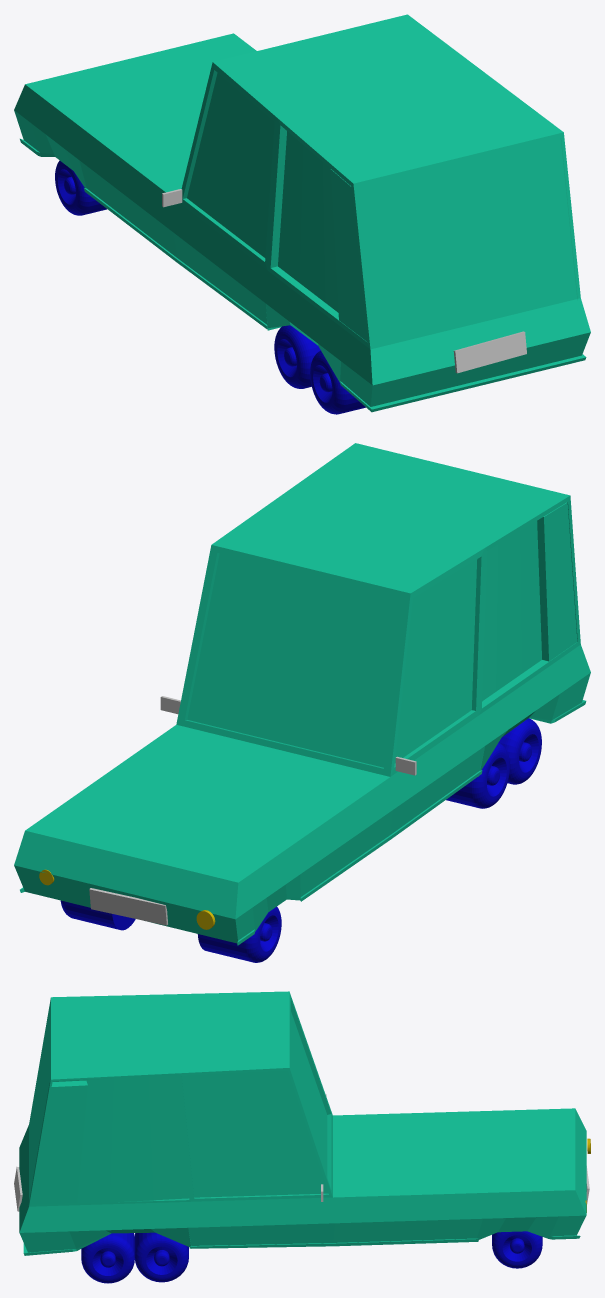
File: car.obj
The picture shows the model from 3 angles, top to bottom: view 1: azimuth 30°, elevation 25°; view 2: azimuth 150°, elevation 25°; view 3: azimuth 270°, elevation 25°; orthographic projection. The views are drawn at different scales.
Parts seen in each view (by area): view 1: Cube_Cube.002, Cylinder.001_Cylinder.005, Cube.003_Cube.004, Cylinder.002_Cylinder.006, Cylinder_Cylinder.004; view 2: Cube_Cube.002, Cylinder_Cylinder.004, Cylinder.001_Cylinder.005, Cylinder.002_Cylinder.006, Cube.004_Cube.005; view 3: Cube_Cube.002, Cylinder.001_Cylinder.005, Cylinder.002_Cylinder.006, Cylinder_Cylinder.004.
Part boxes in pixels (bbox=[...]): Cube_Cube.002: bbox=[14, 14, 590, 412]; Cylinder.001_Cylinder.005: bbox=[274, 325, 320, 388]; Cube.003_Cube.004: bbox=[453, 331, 526, 373]; Cylinder.002_Cylinder.006: bbox=[310, 350, 365, 414]; Cylinder_Cylinder.004: bbox=[55, 160, 106, 215]; Cube_Cube.002: bbox=[14, 443, 590, 945]; Cylinder_Cylinder.004: bbox=[60, 900, 281, 962]; Cylinder.001_Cylinder.005: bbox=[446, 742, 509, 808]; Cylinder.002_Cylinder.006: bbox=[499, 718, 541, 784]; Cube.004_Cube.005: bbox=[89, 888, 167, 925]; Cube_Cube.002: bbox=[19, 991, 586, 1255]; Cylinder.001_Cylinder.005: bbox=[134, 1232, 188, 1282]; Cylinder.002_Cylinder.006: bbox=[81, 1233, 134, 1283]; Cylinder_Cylinder.004: bbox=[492, 1231, 542, 1268].
Size of the model in its own units: 2.39 by 2.44 by 5.92.
